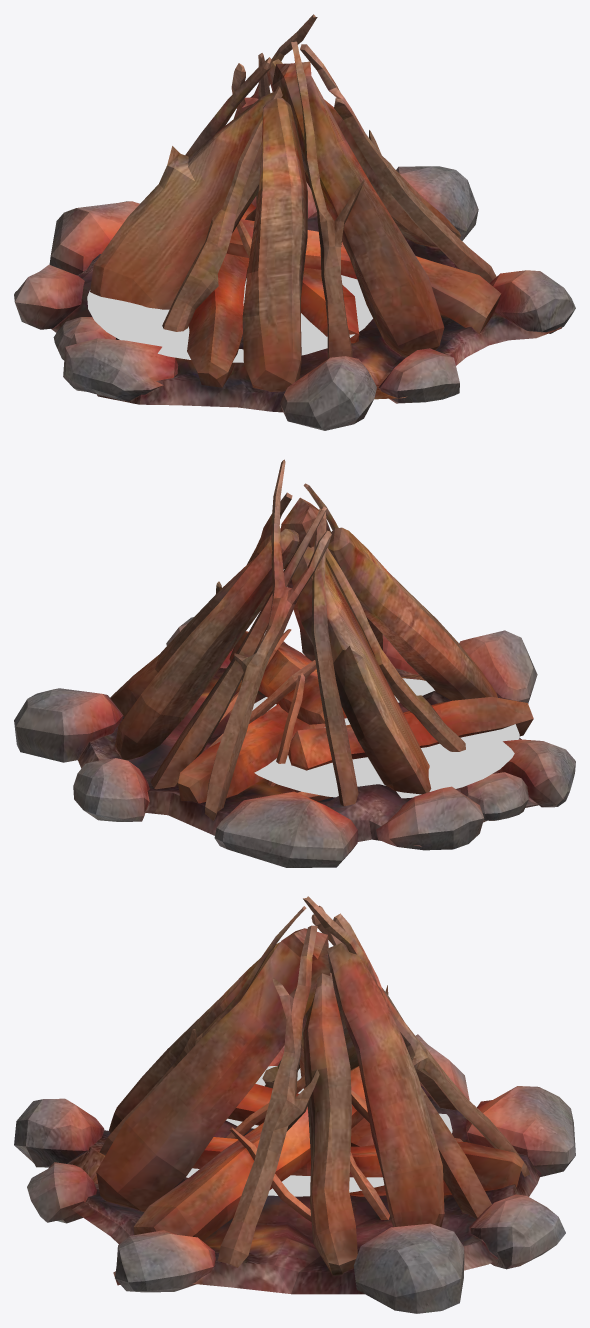
Rendered from camp.glb.
The picture shows the model from 3 angles, top to bottom: view 1: azimuth 30°, elevation 25°; view 2: azimuth 150°, elevation 25°; view 3: azimuth 270°, elevation 25°; orthographic projection. The views are drawn at different scales.
Parts seen in each view (by area): view 1: Campfire, Circle; view 2: Campfire, Circle; view 3: Campfire, Circle.
Part boxes in pixels (box(x1,y1,x2,y2)): Campfire: box(14, 14, 575, 430); Circle: box(87, 275, 372, 362); Campfire: box(14, 459, 575, 867); Circle: box(252, 678, 519, 798); Campfire: box(14, 896, 575, 1313); Circle: box(186, 1066, 452, 1196).
Size of the model in its own units: 0.7205 by 0.442 by 0.6915.
Materials: 1 (1 with a texture image).
